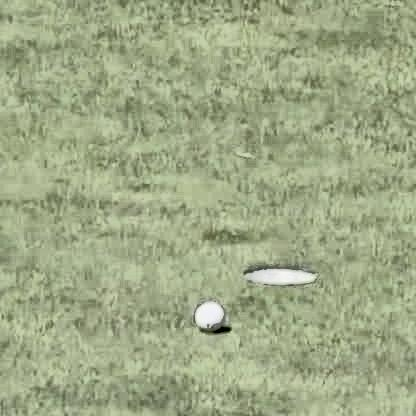golfball: (190, 299, 223, 330)
